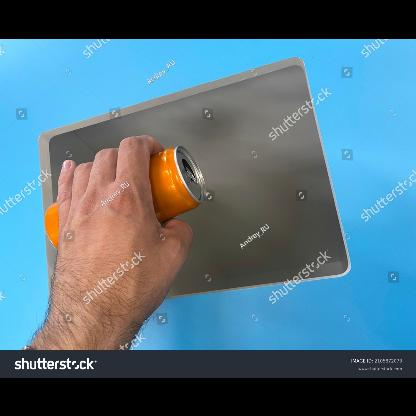Lid_Open: (176, 148, 204, 188)
Tin_Can: (30, 141, 212, 252)
